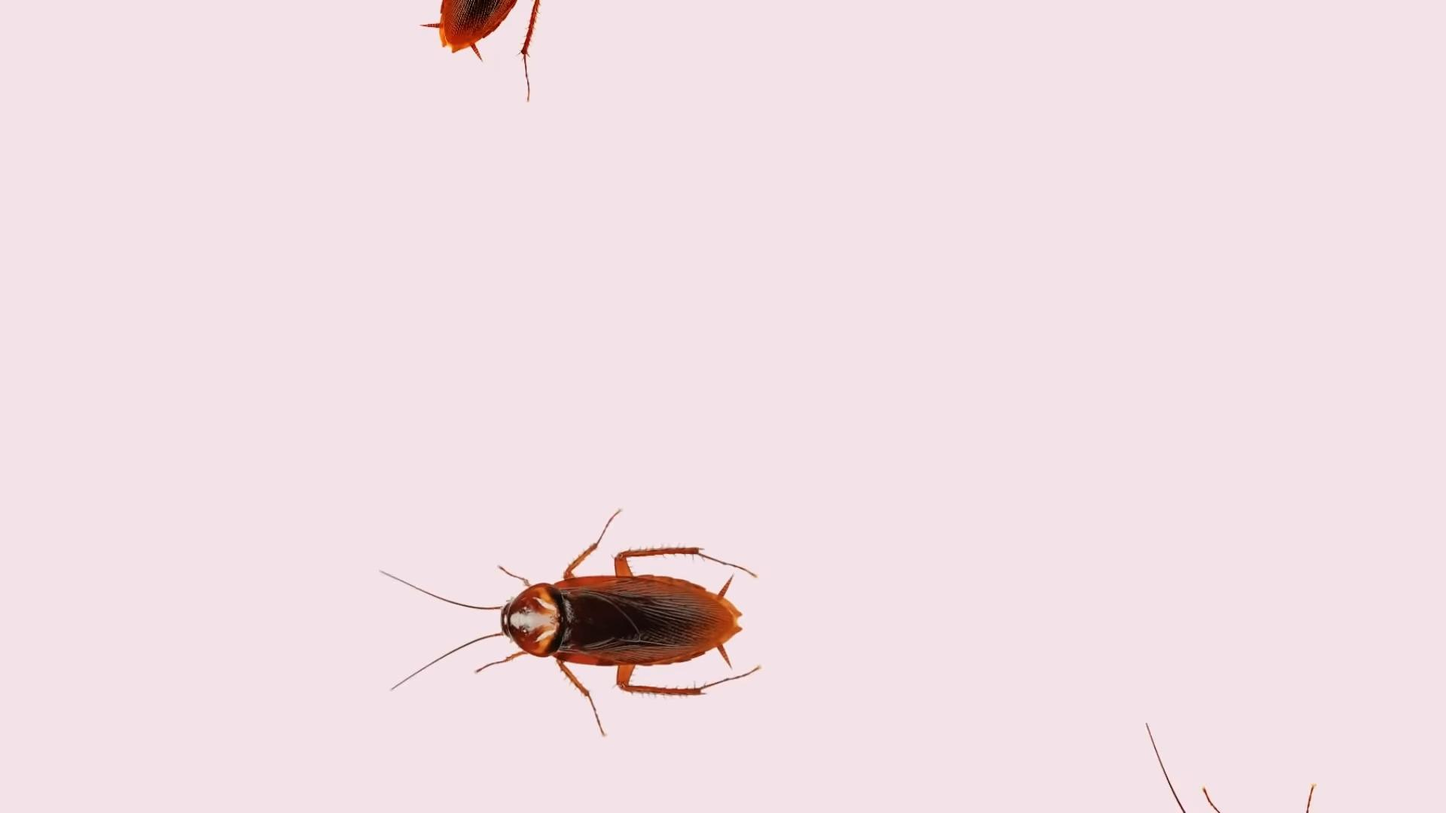cockroach: (384, 524, 745, 702)
